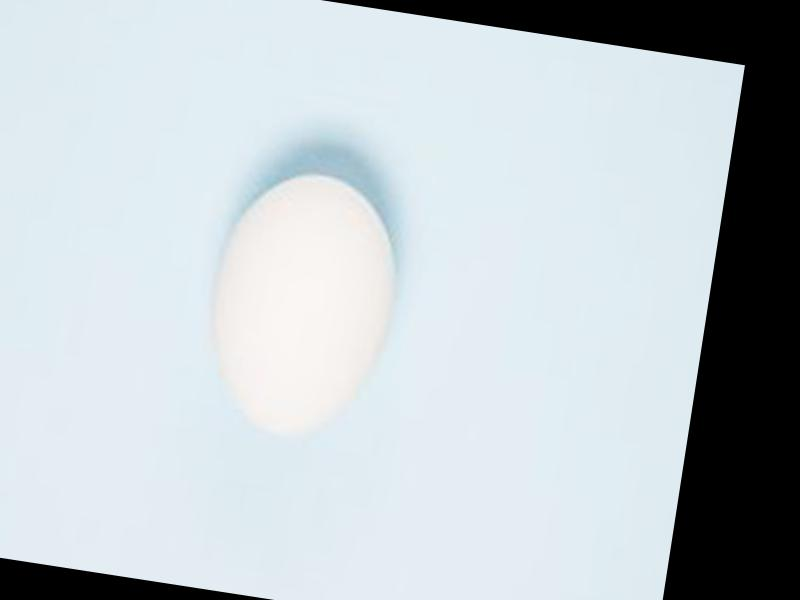Eggs: (192, 161, 408, 451)
